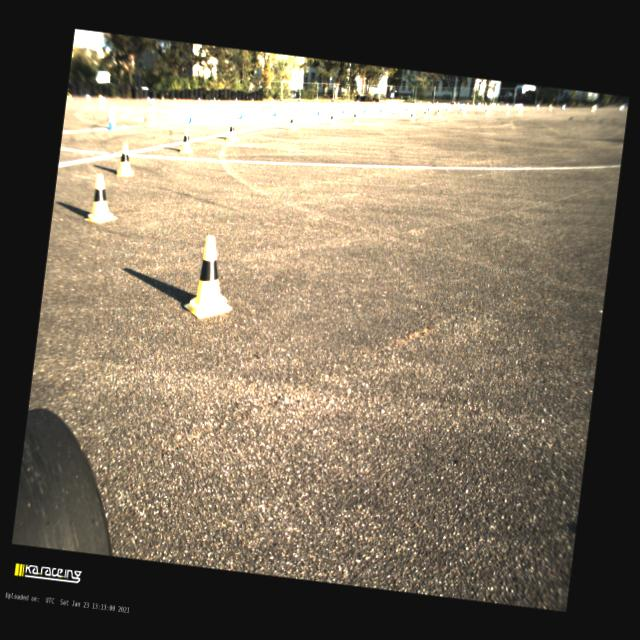blue_cone: (107, 111, 120, 130), (187, 108, 197, 124), (238, 106, 246, 119), (272, 104, 280, 116), (316, 104, 322, 115), (362, 103, 368, 113), (150, 97, 156, 106), (379, 102, 384, 111), (85, 93, 91, 100), (208, 98, 213, 106), (445, 103, 450, 111), (341, 105, 345, 114), (270, 98, 274, 106), (306, 100, 310, 108), (146, 96, 150, 102), (405, 102, 408, 110), (427, 104, 431, 110), (442, 102, 446, 108), (461, 102, 464, 110), (350, 101, 353, 108), (197, 97, 201, 102), (328, 98, 331, 104), (536, 103, 539, 109), (298, 99, 302, 103), (234, 97, 237, 102), (390, 103, 393, 108), (416, 101, 418, 108), (562, 103, 564, 109), (477, 101, 479, 106), (506, 102, 508, 107), (514, 103, 516, 108), (458, 102, 460, 105)
yellow_cone: (182, 234, 240, 322), (84, 172, 122, 225), (116, 142, 136, 176), (179, 128, 195, 154), (225, 119, 239, 141), (288, 113, 296, 130), (328, 110, 336, 126), (351, 110, 359, 123), (409, 109, 416, 122), (422, 107, 428, 119), (436, 106, 442, 116), (172, 96, 177, 105), (461, 106, 466, 115), (505, 106, 510, 115), (160, 95, 165, 103), (484, 106, 488, 115), (590, 105, 594, 112), (213, 96, 216, 104), (217, 98, 220, 106), (466, 102, 470, 108), (496, 102, 499, 110), (426, 101, 429, 108), (481, 101, 484, 108), (491, 102, 494, 109), (493, 101, 496, 108), (418, 100, 422, 105), (250, 98, 253, 104), (548, 104, 551, 110), (453, 101, 456, 106), (472, 101, 475, 106), (479, 101, 481, 108), (484, 102, 487, 106), (436, 100, 438, 105), (489, 102, 491, 107)
